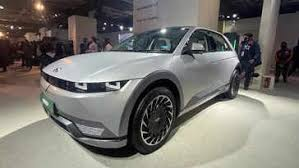Honda Ioniq: (35, 20, 244, 161)
